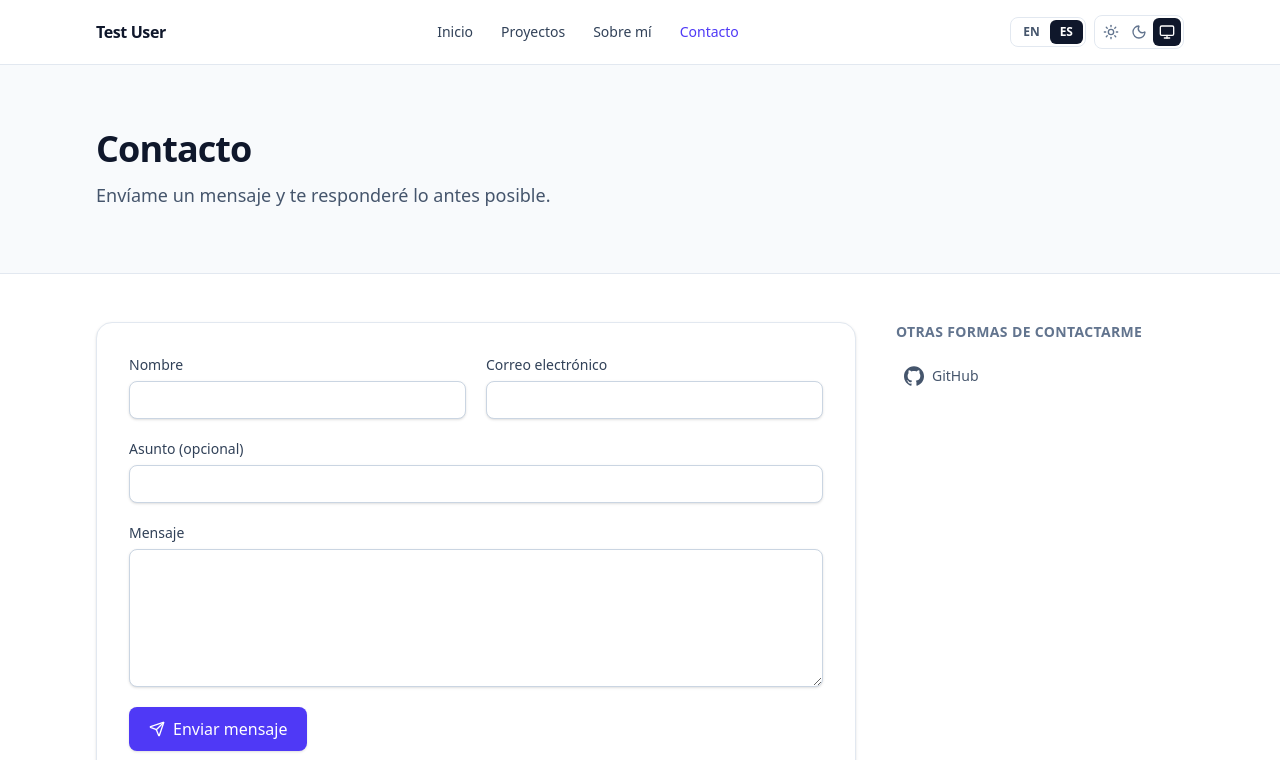
Test case: ContactForm › shows translated validation messages in Spanish
Type "not-an-email" into the field labelled "Correo electrónico" at (654, 400), box x1=486 y1=381 x2=823 y2=419
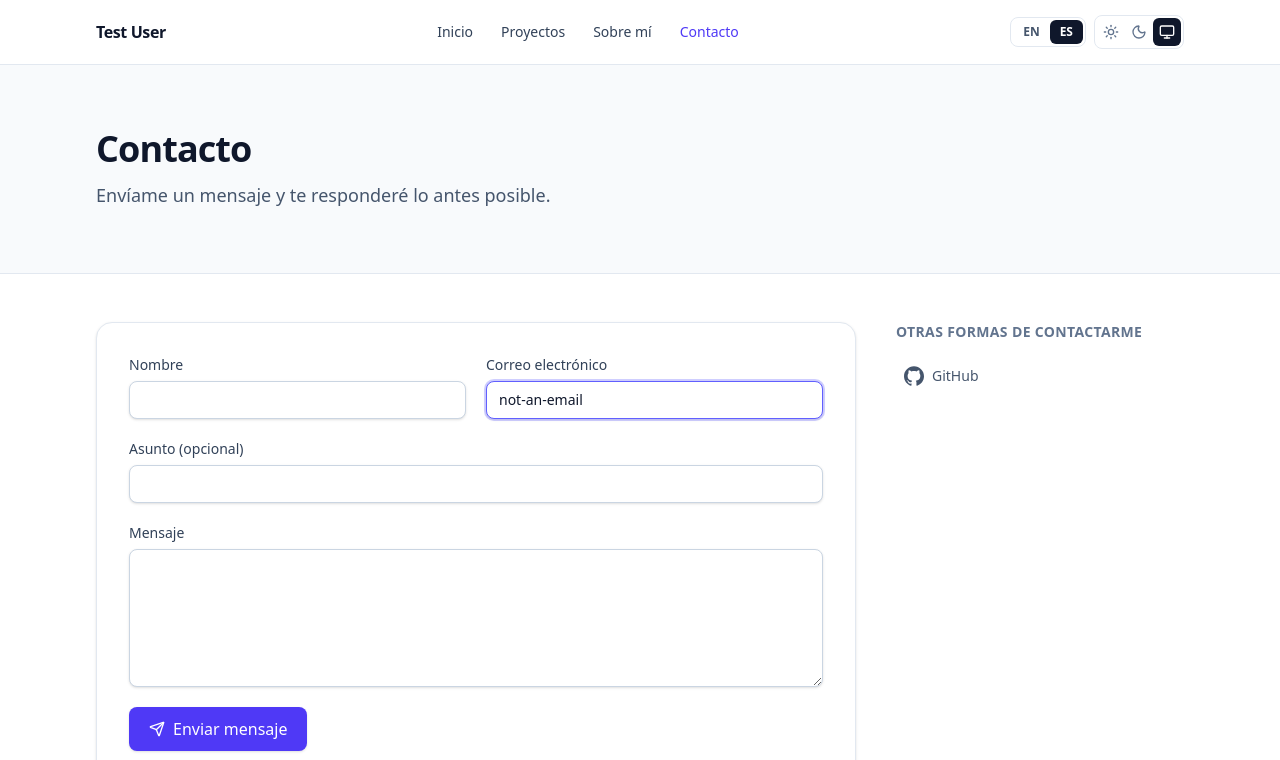
Click the button "Enviar mensaje" at (218, 729), box x1=129 y1=707 x2=308 y2=751
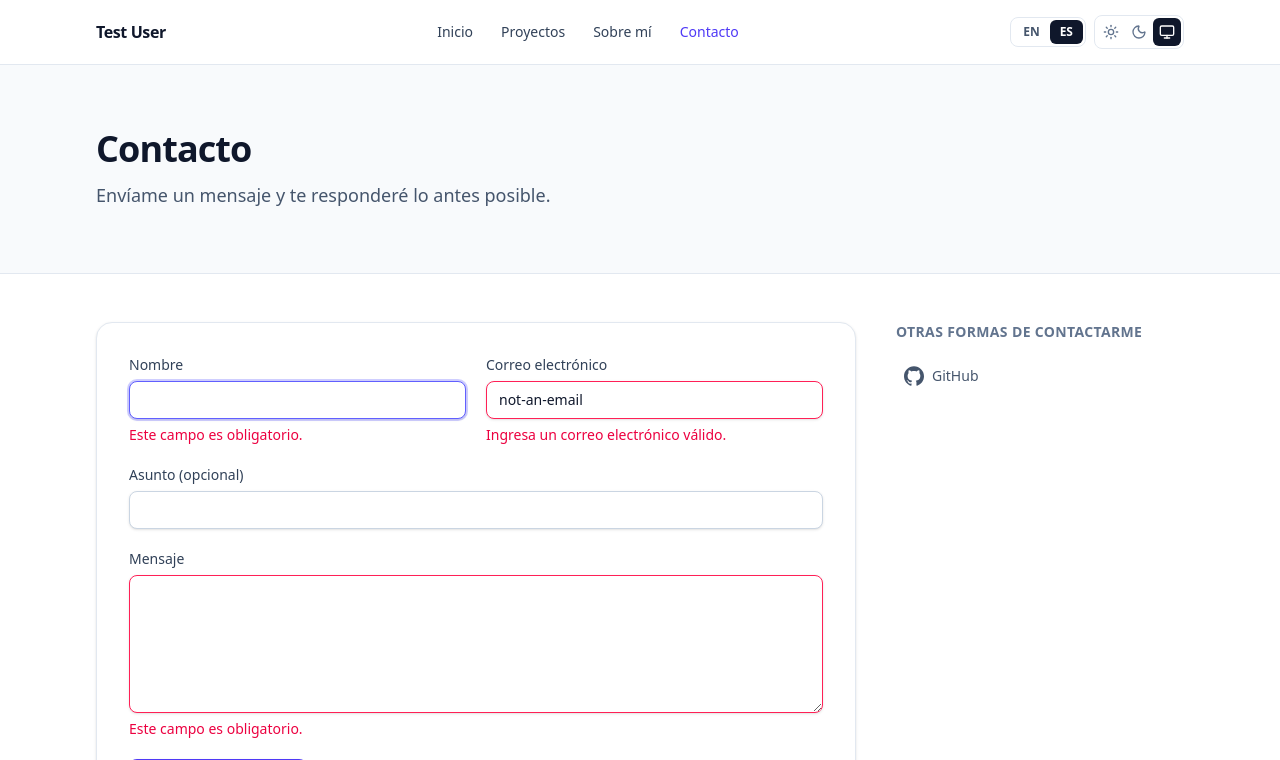
Expected: the text "Ingresa un correo electrónico válido." is shown, x1=486 y1=425 x2=726 y2=444
